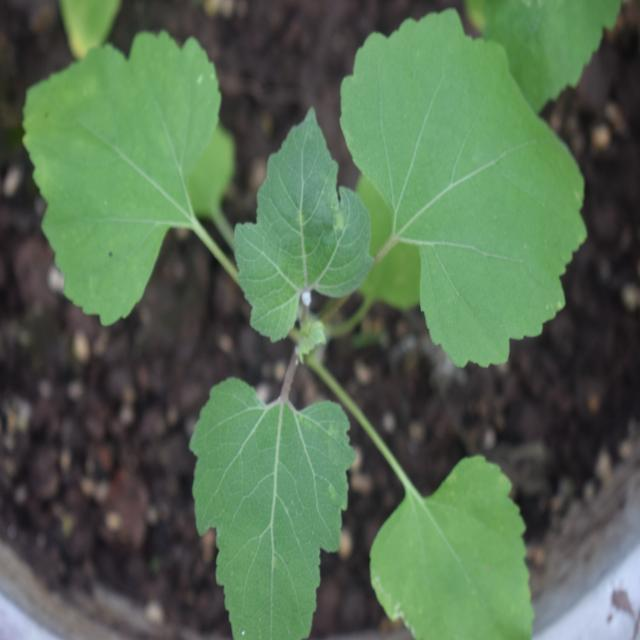cocklebur: (2, 44, 592, 597)
